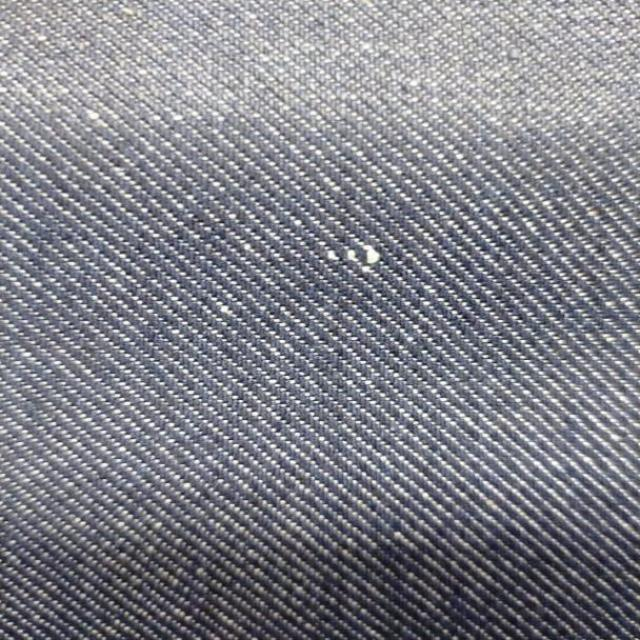Knot: (326, 245, 381, 266)
